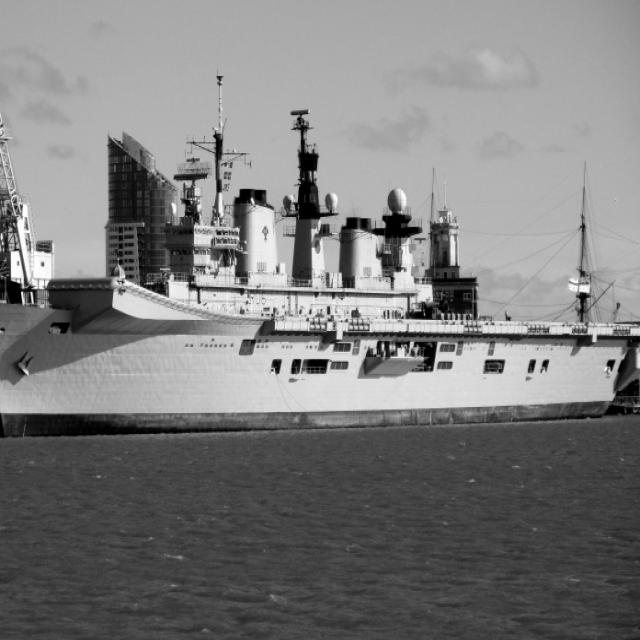Portanaves: (1, 103, 640, 440)
